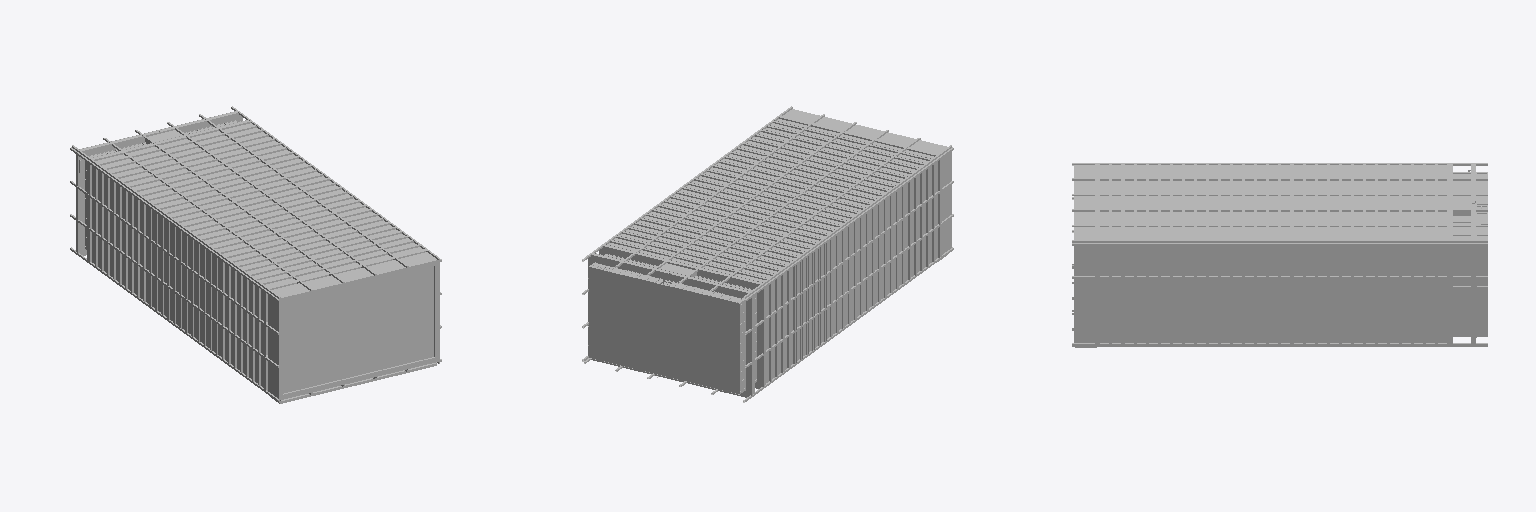
The model's file is Office Building.obj.
3 renders of one model, left to right at view 1: azimuth 30°, elevation 25°; view 2: azimuth 150°, elevation 25°; view 3: azimuth 270°, elevation 25°, orthographic.
Parts seen in each view (by area): view 1: Cube.002, Cube.001, Cube.006; view 2: Cube.002, Cube.001, Cube.009, Cube.006, Cube.007; view 3: Cube.001, Cube.002, Cube.006, Cube.007.
Part boxes in pixels (x1,y1,x2,y2): Cube.002: (70,106,441,403); Cube.001: (92,123,421,387); Cube.006: (268,252,436,398); Cube.002: (582,106,953,402); Cube.001: (607,119,937,382); Cube.009: (589,267,739,393); Cube.006: (783,109,951,254); Cube.007: (590,254,756,392); Cube.001: (1100,165,1446,342); Cube.002: (1072,163,1487,347); Cube.006: (1074,165,1094,342); Cube.007: (1453,172,1486,336).
Size of the model in its own units: 96.85 by 60.83 by 212.